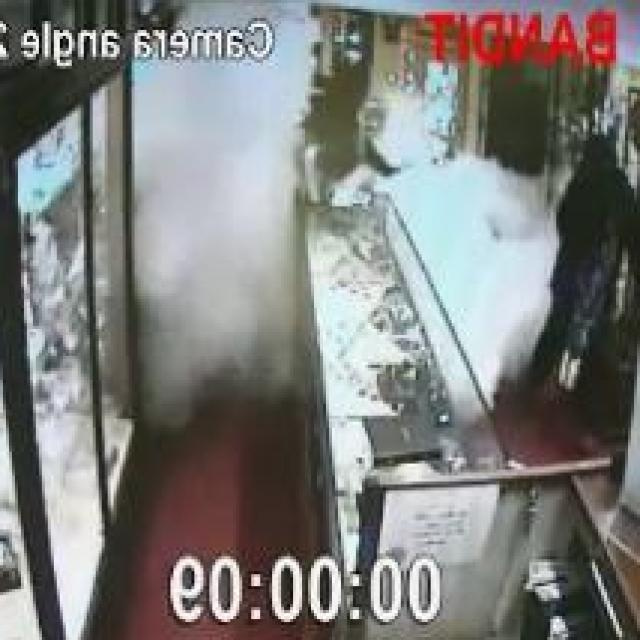fire: (133, 55, 307, 426), (381, 151, 564, 408)
